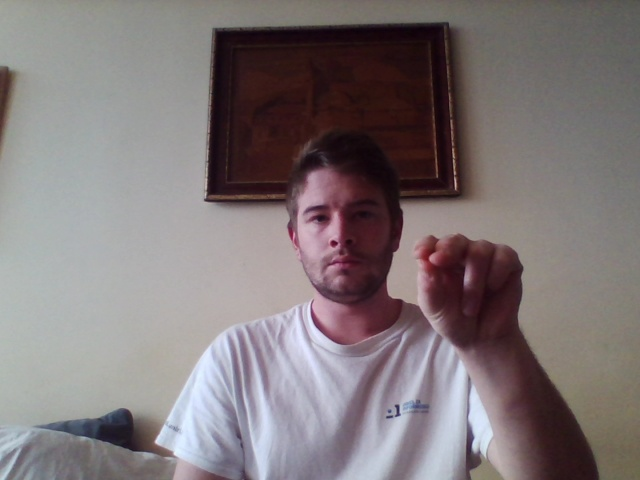ne: (413, 230, 529, 347)
